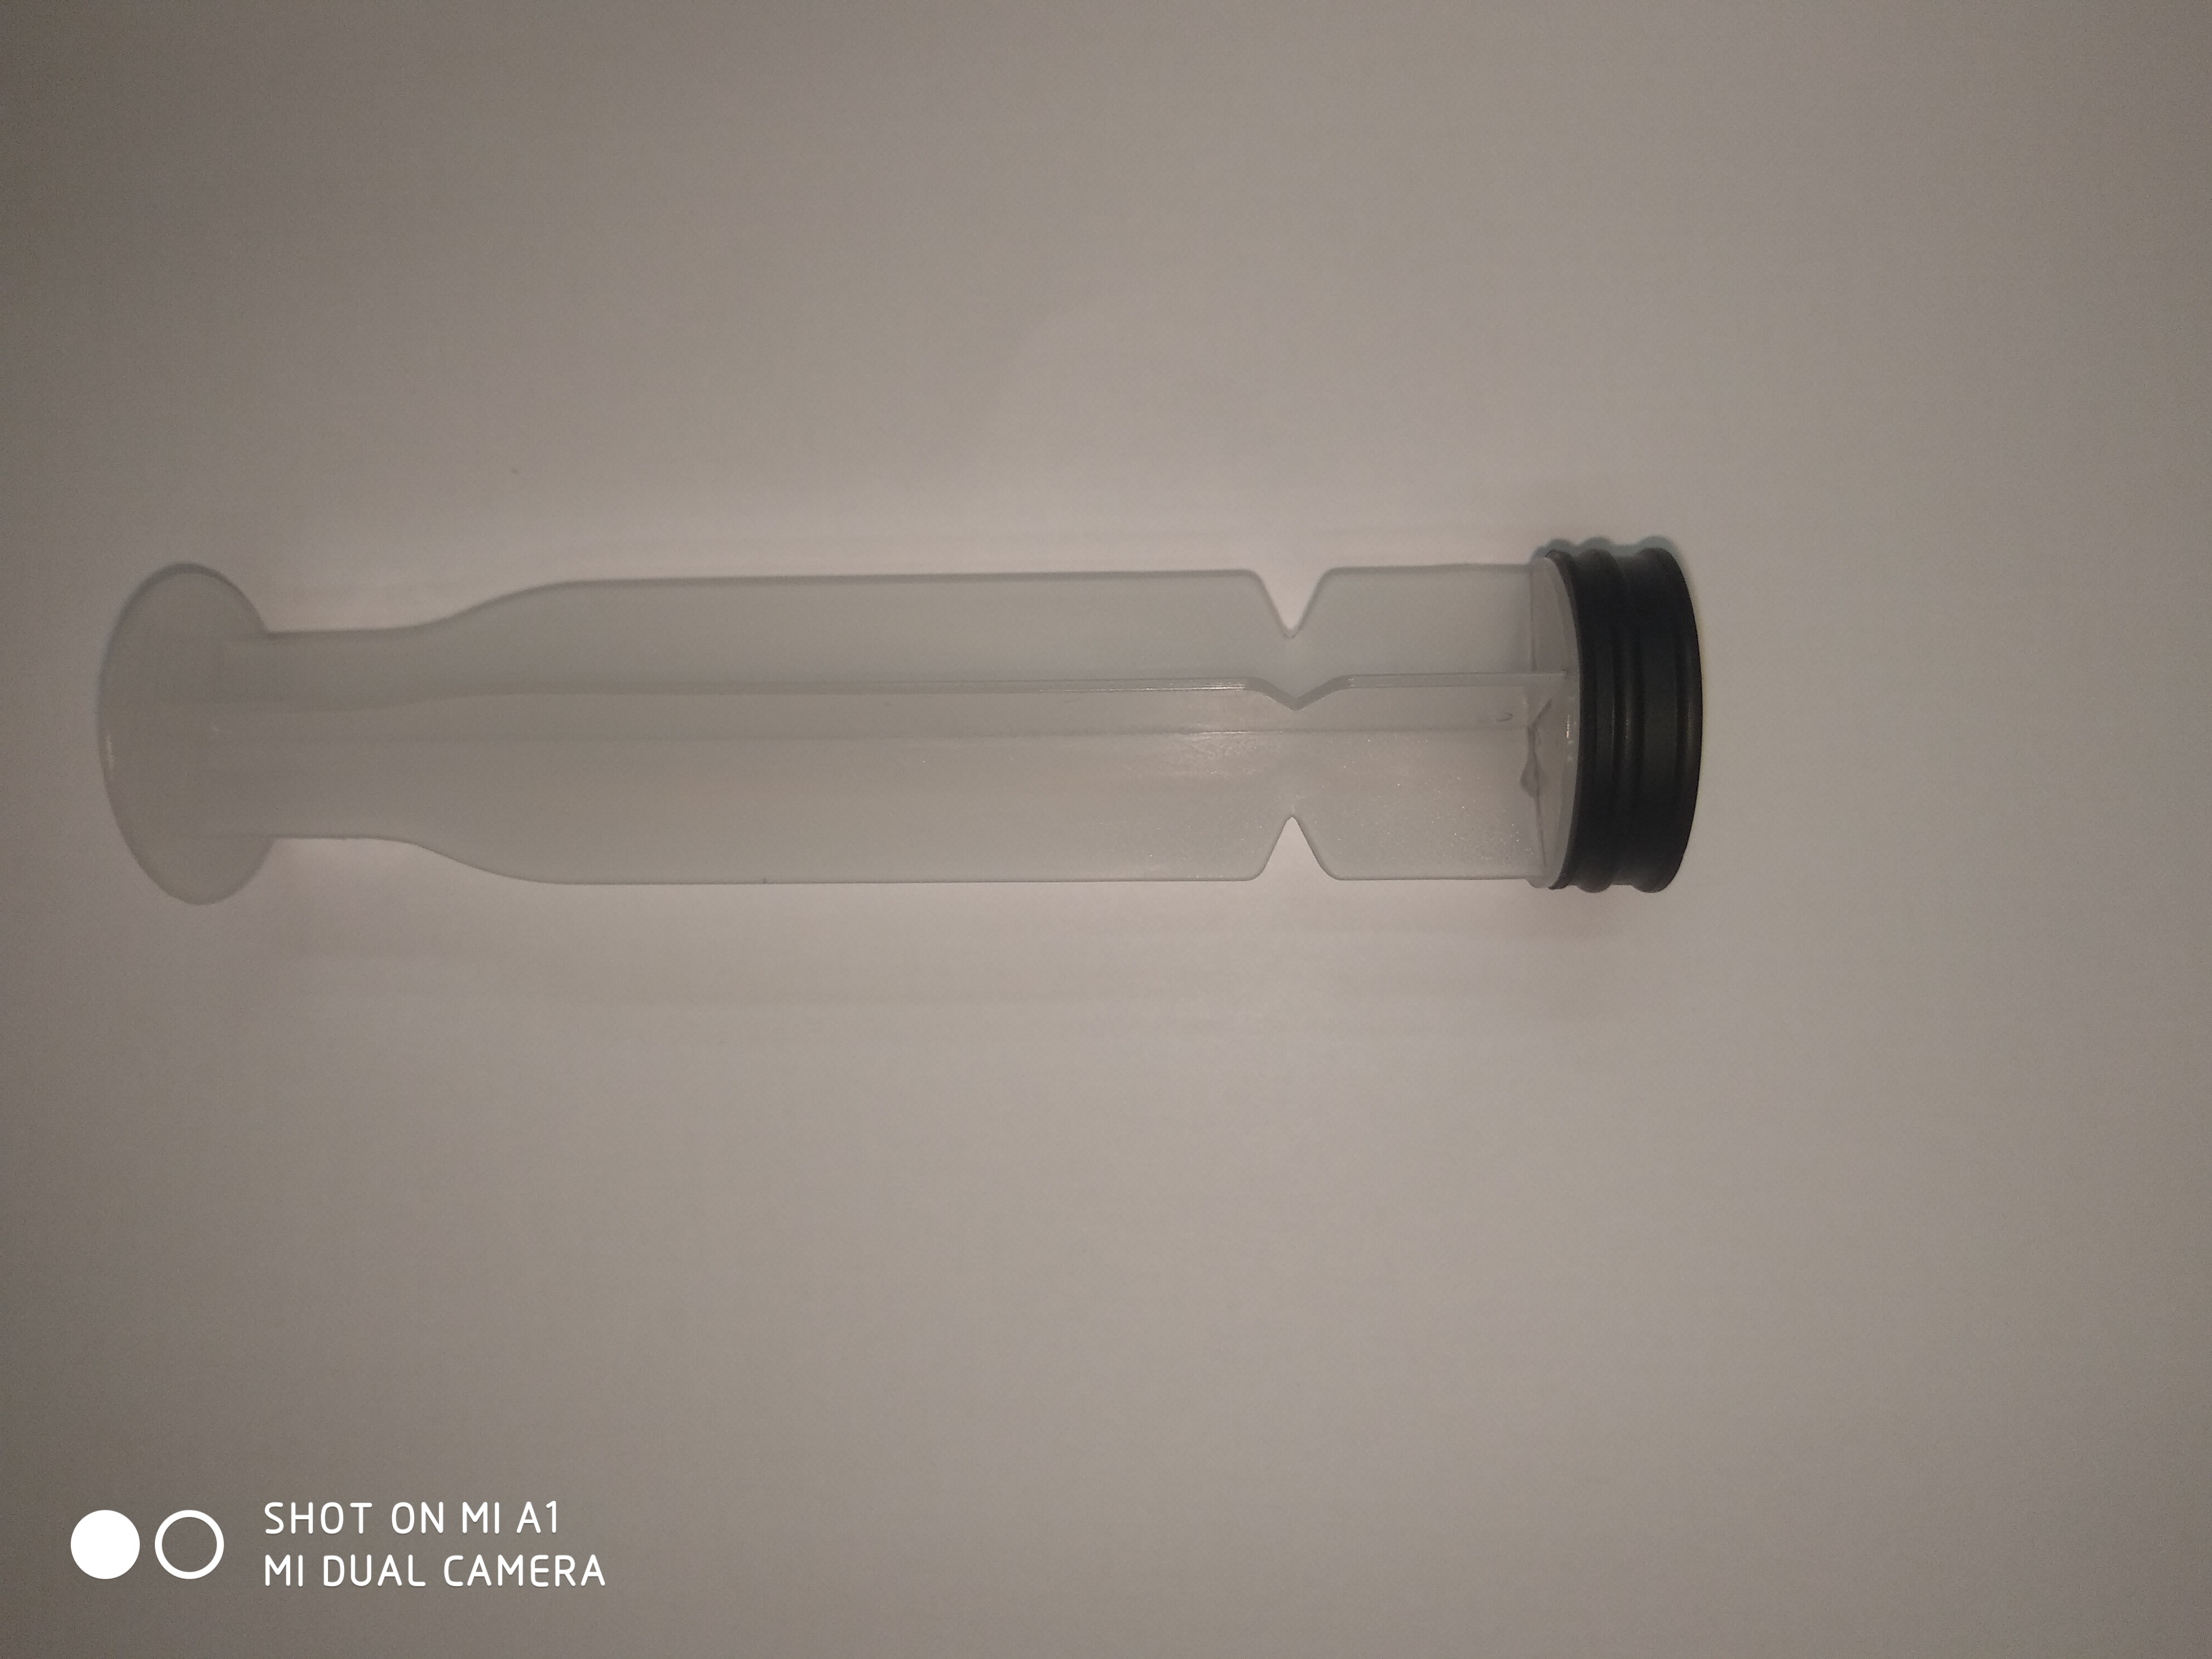plunger: (85, 547, 1716, 910)
